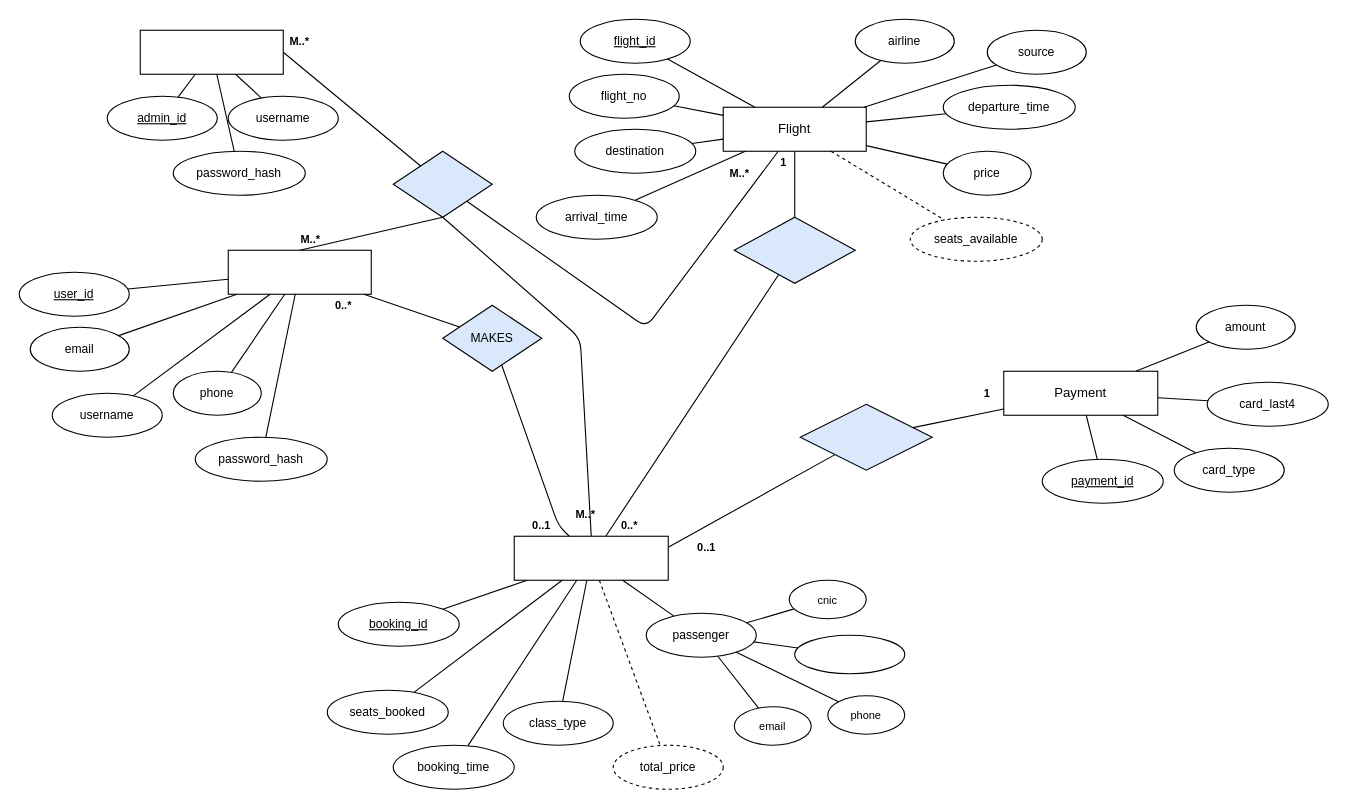
The diagram is 1348 pixels wide and 809 high, and some of its shapes have lost their labels. Here are the shapes that lost their labels. From the top down, the centre of each, then its label:
At [211,51]: "AdminUser".
At [442,183]: "MANAGES".
At [794,249]: "BOOKED_FOR".
At [299,271]: "User".
At [865,436]: "PAYMENT_FOR".
At [590,557]: "Booking".
At [849,654]: "passenger_name".
